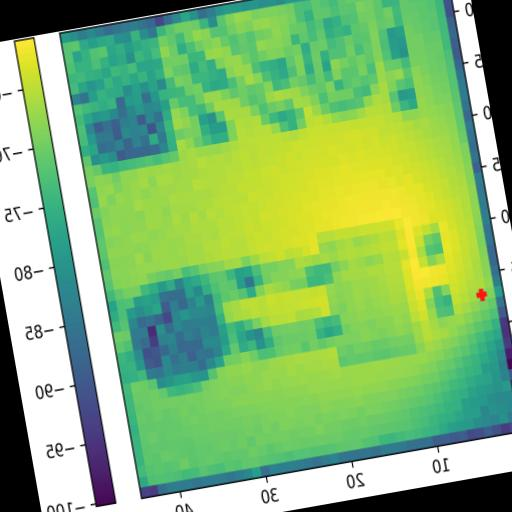Concrete: (72, 36, 178, 175)
Glass: (286, 0, 383, 129)
Metal: (120, 262, 235, 401)
Wood: (316, 218, 417, 366)
